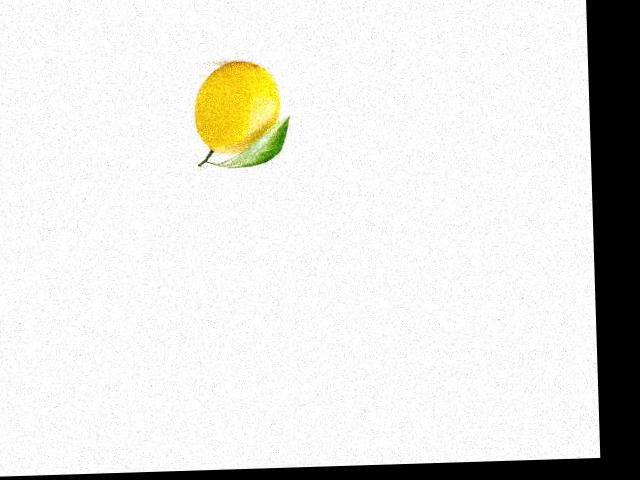lemon: (187, 53, 286, 163)
